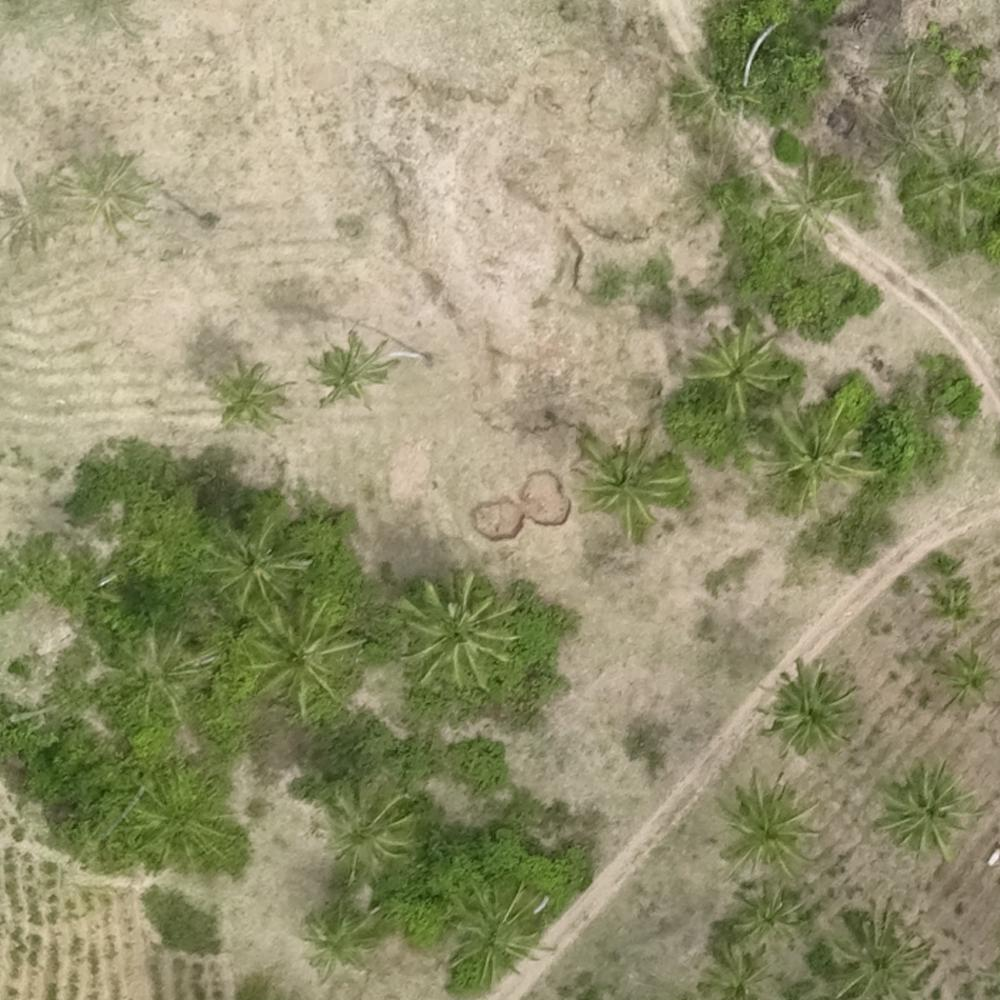Palm: (398, 576, 517, 688), (244, 604, 354, 711), (572, 427, 687, 529), (686, 319, 797, 415), (762, 407, 868, 507), (441, 881, 543, 981), (872, 762, 971, 860), (721, 778, 821, 872), (763, 664, 861, 757), (205, 524, 305, 611), (320, 778, 417, 864), (828, 912, 925, 997), (302, 907, 383, 977), (77, 154, 152, 228), (211, 361, 287, 434), (315, 333, 390, 406), (1, 169, 66, 249), (932, 645, 1000, 710), (729, 890, 800, 947)
